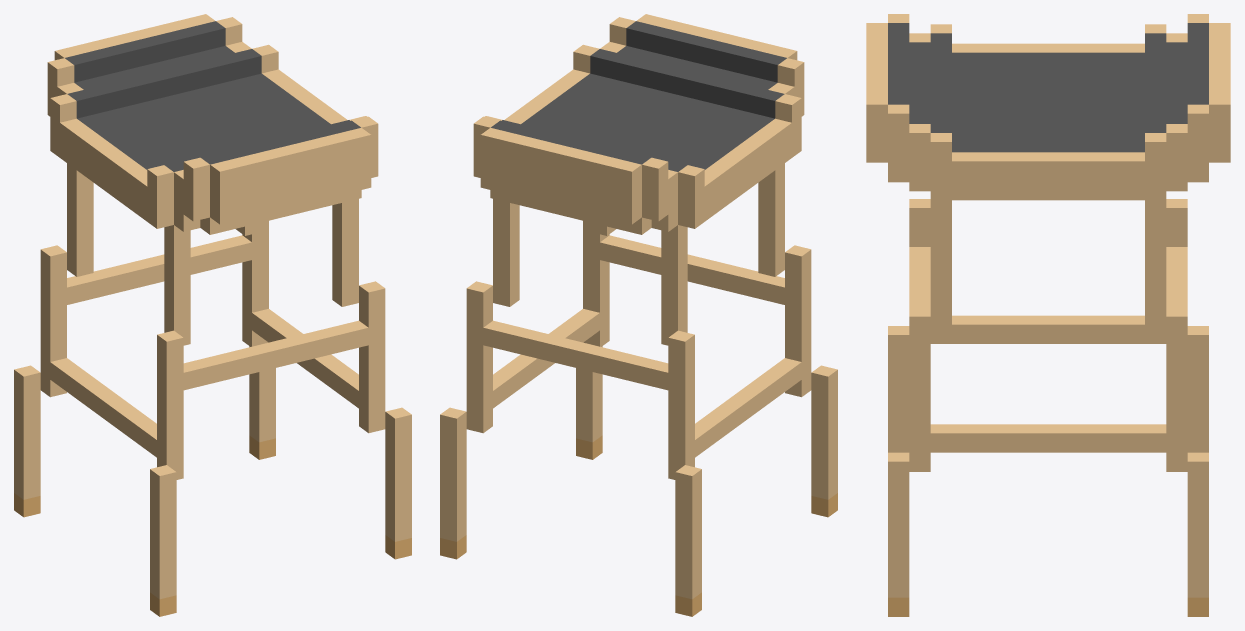
File: Bar Stool.obj
3 renders of one model, left to right at view 1: azimuth 30°, elevation 25°; view 2: azimuth 150°, elevation 25°; view 3: azimuth 270°, elevation 25°, orthographic. The views are drawn at different scales.
Bounding box in the file's own units: 1.5 × 2.5 × 1.7.
1 material, 1 textured.
